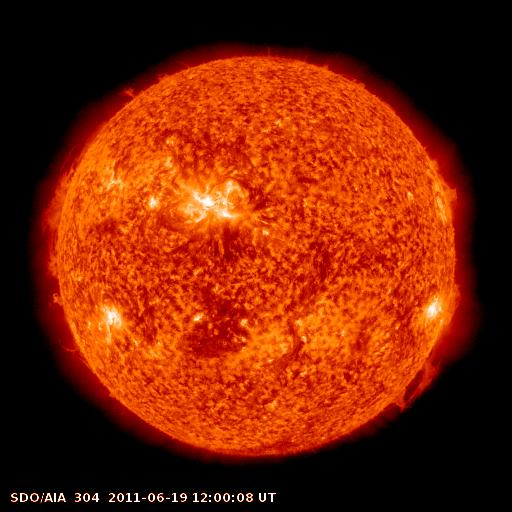prominence: (38, 142, 91, 282), (382, 348, 448, 420), (422, 142, 464, 212), (55, 333, 104, 375), (113, 77, 143, 108), (38, 289, 70, 314)
